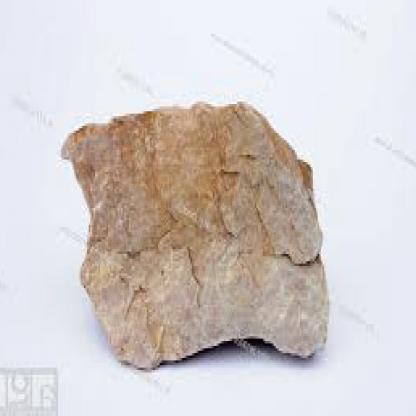Metamorphic_Quartize: (58, 82, 331, 368)
